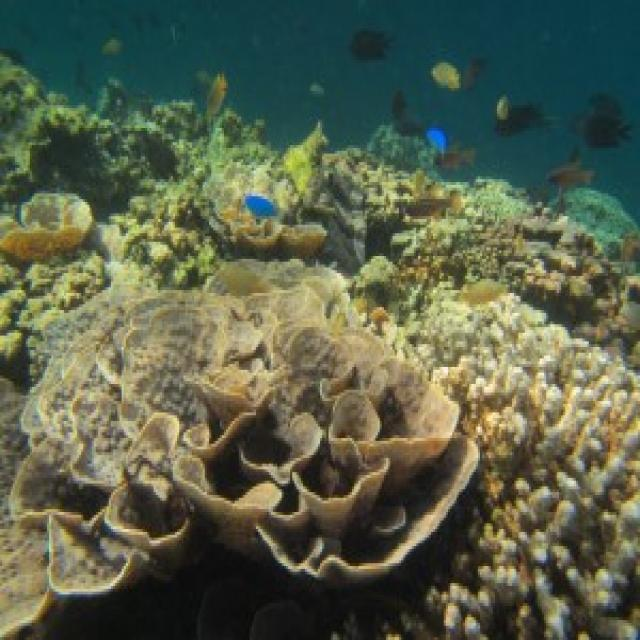Healthy: (10, 283, 479, 627), (408, 285, 639, 638), (359, 166, 630, 334), (99, 103, 234, 285), (1, 194, 108, 382), (216, 112, 268, 157)
